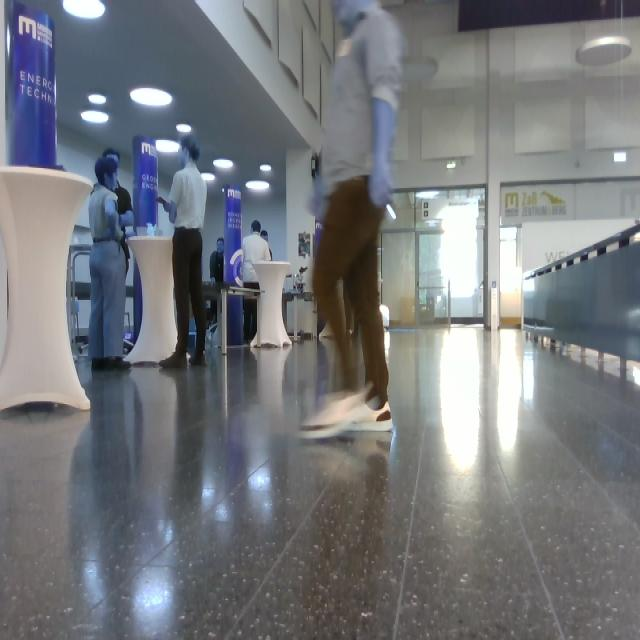door: (417, 230, 448, 325), (499, 225, 523, 328)
light bulb: (576, 1, 632, 68), (576, 36, 632, 66), (130, 86, 173, 108), (63, 1, 106, 20), (81, 110, 109, 124), (156, 140, 181, 153), (246, 180, 270, 192), (213, 158, 234, 169), (88, 93, 107, 105), (386, 204, 397, 220), (177, 124, 192, 133), (201, 173, 216, 182), (260, 164, 272, 172)
person: (300, 1, 408, 436), (156, 134, 208, 369), (88, 154, 133, 372), (242, 220, 272, 344)
pillar: (1, 164, 94, 412)
staircase: (522, 221, 640, 380)
tiled floor: (1, 323, 640, 639)
